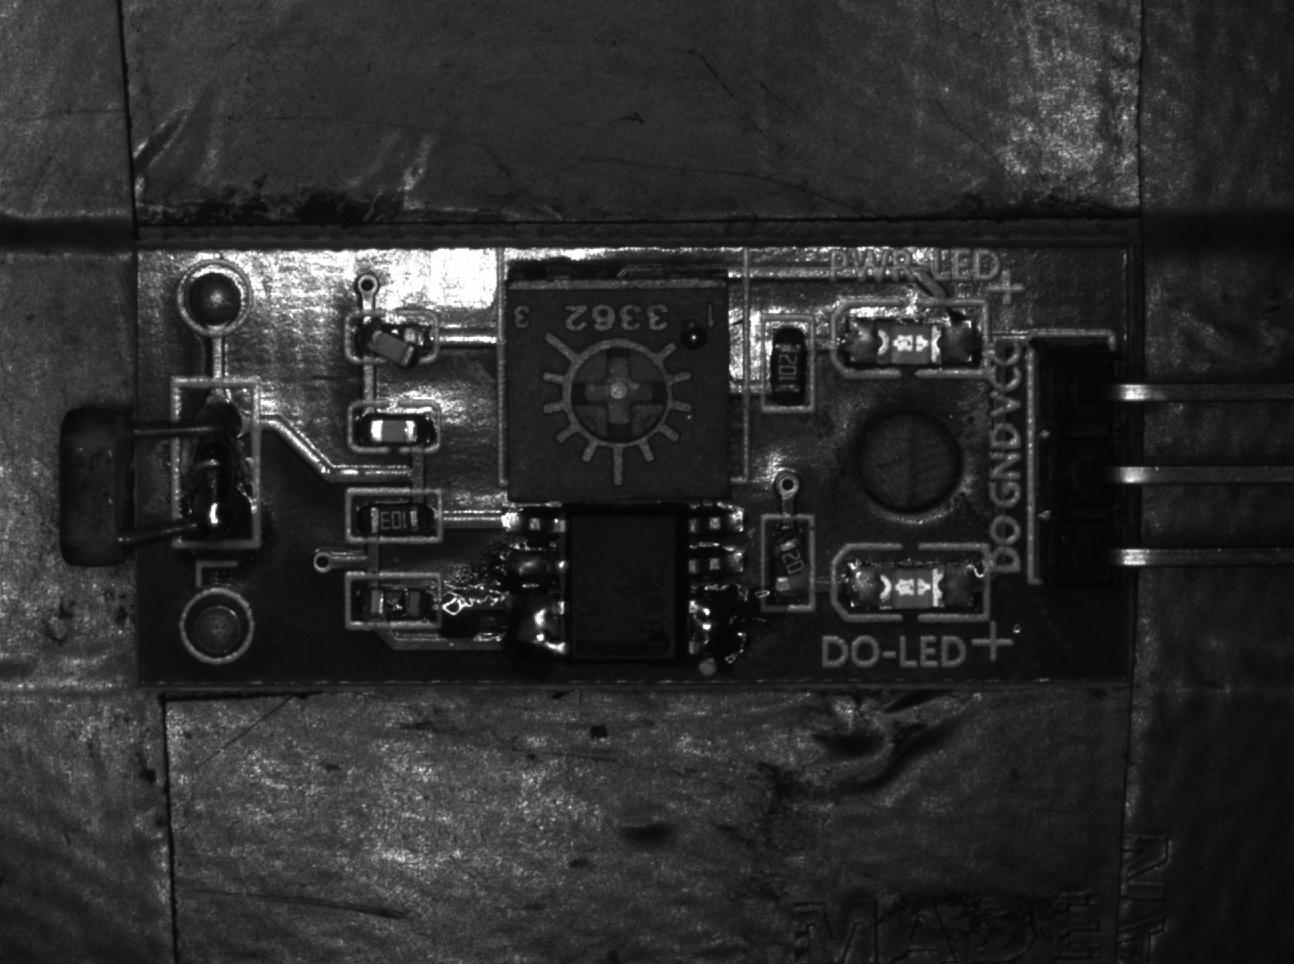bridge: (168, 374, 259, 554), (501, 538, 566, 670), (683, 579, 741, 663)
lifted: (341, 310, 442, 368), (759, 517, 810, 613)
miss: (345, 570, 441, 629)
ok: (341, 490, 442, 545), (348, 398, 442, 455), (762, 312, 809, 411)
